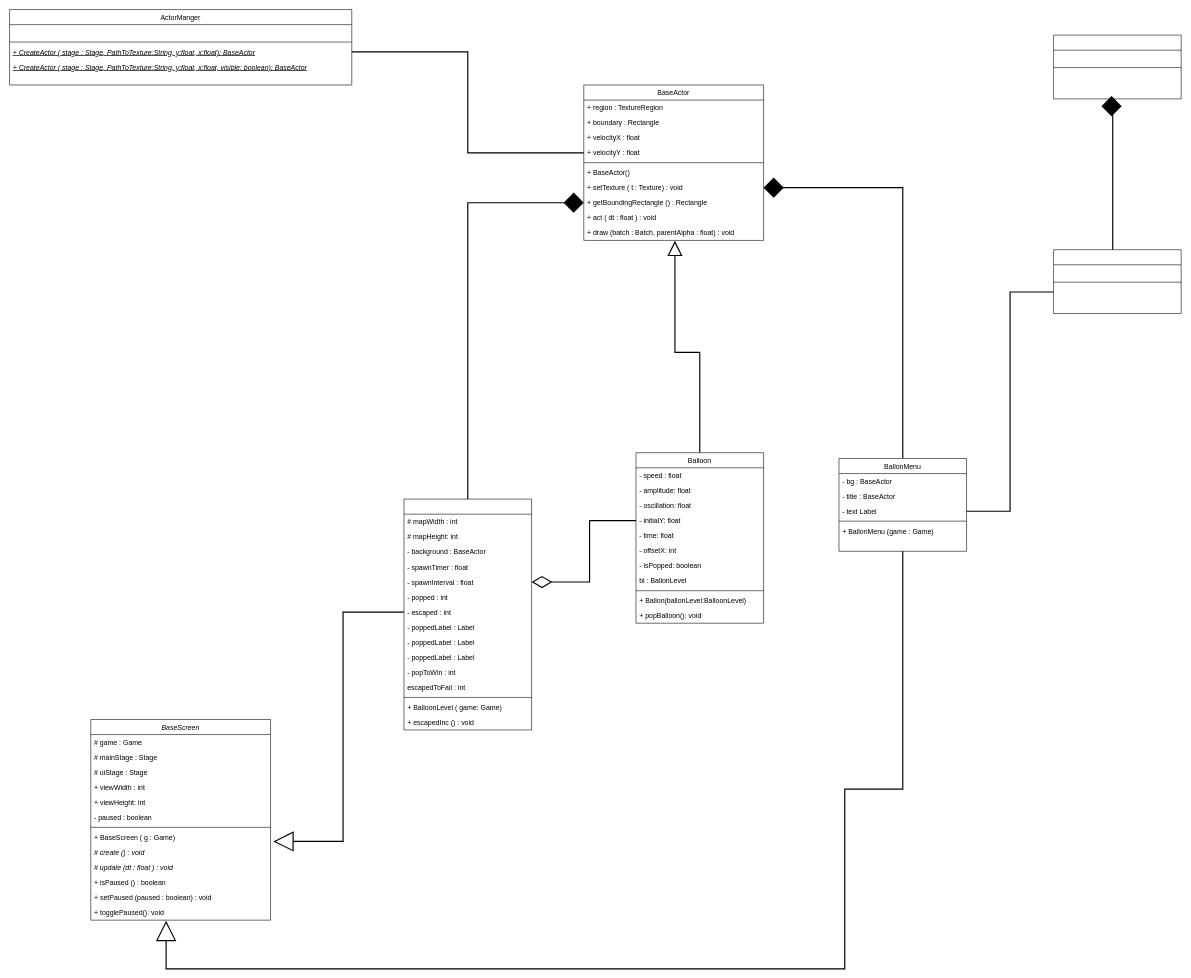
This 1191x978 diagram has some shape labels left out. The shapes that lost their labels are listed below. From the top down, each one's box as (x1, y1, x2, y2) in pixels, then its label:
(1053, 35, 1181, 99): DesktopLauncher
(1053, 249, 1181, 313): BalloonBuster
(403, 499, 532, 730): BallonLevel
